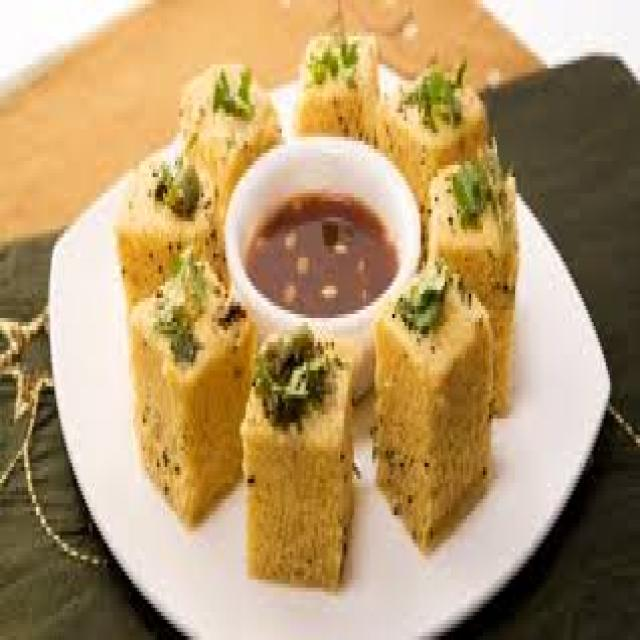DHOKLA: (127, 250, 262, 525), (371, 257, 493, 551), (241, 320, 354, 593), (378, 55, 489, 252), (437, 169, 520, 419), (115, 148, 233, 306), (183, 57, 280, 224), (291, 30, 380, 154)
